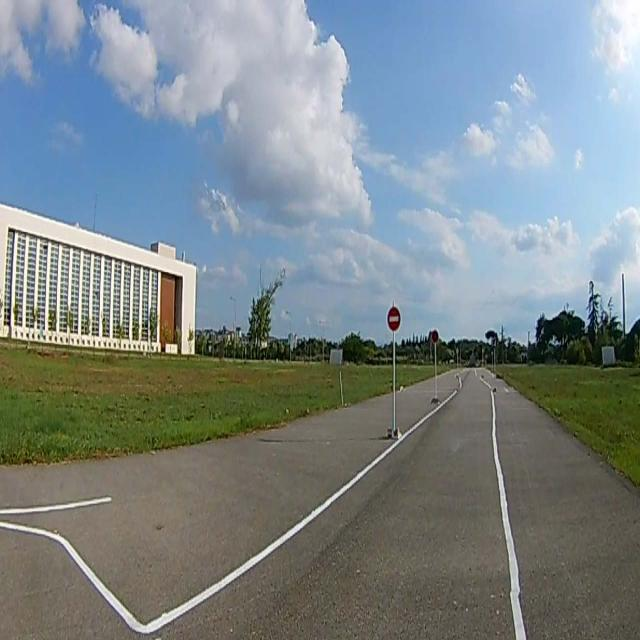girisyok: (388, 308, 400, 330)
